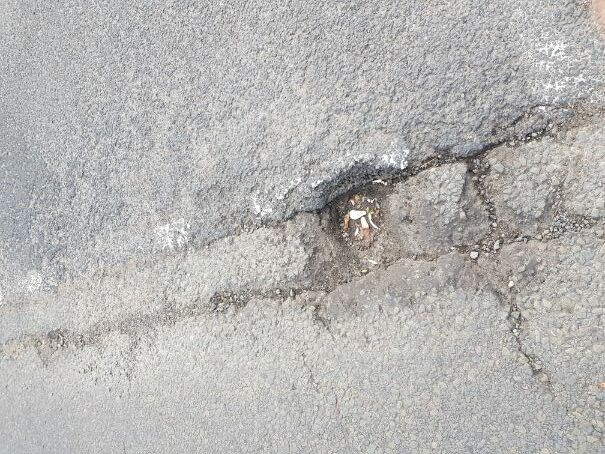pothole: (271, 99, 604, 295)
